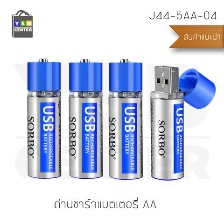battery: (148, 60, 187, 186), (105, 55, 143, 181), (66, 56, 104, 179), (26, 55, 63, 181)
